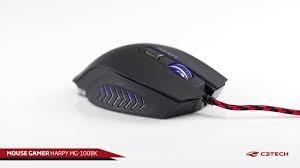mouse: (77, 40, 228, 124)
